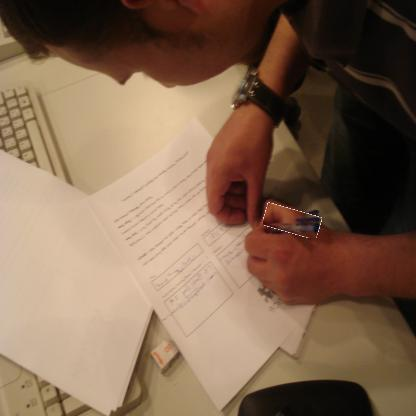Pen: (262, 206, 320, 235)
